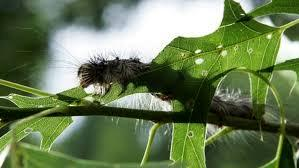Caterpillar: (77, 58, 251, 124)
